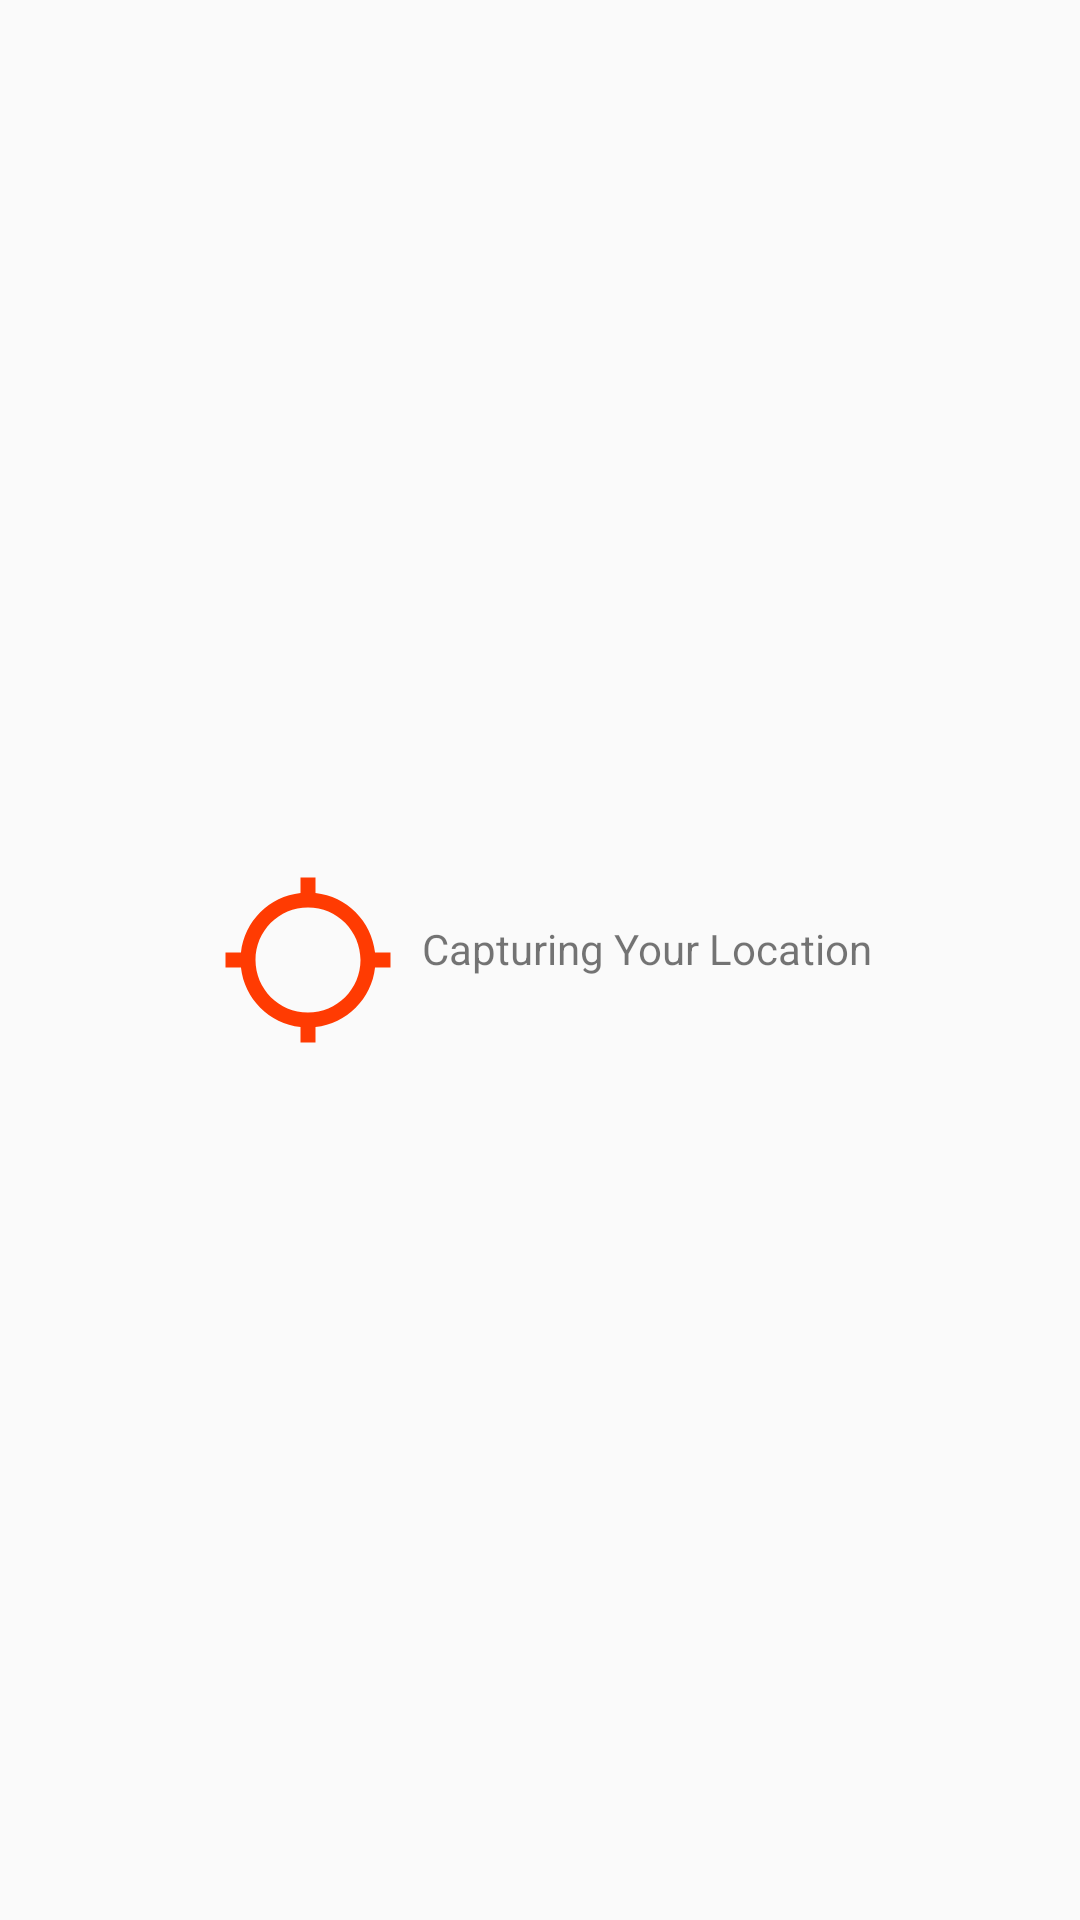

Icon click points for this 1080px x 1920px phone screenshot, format (x,y):
gps not fixed: (308,960)
